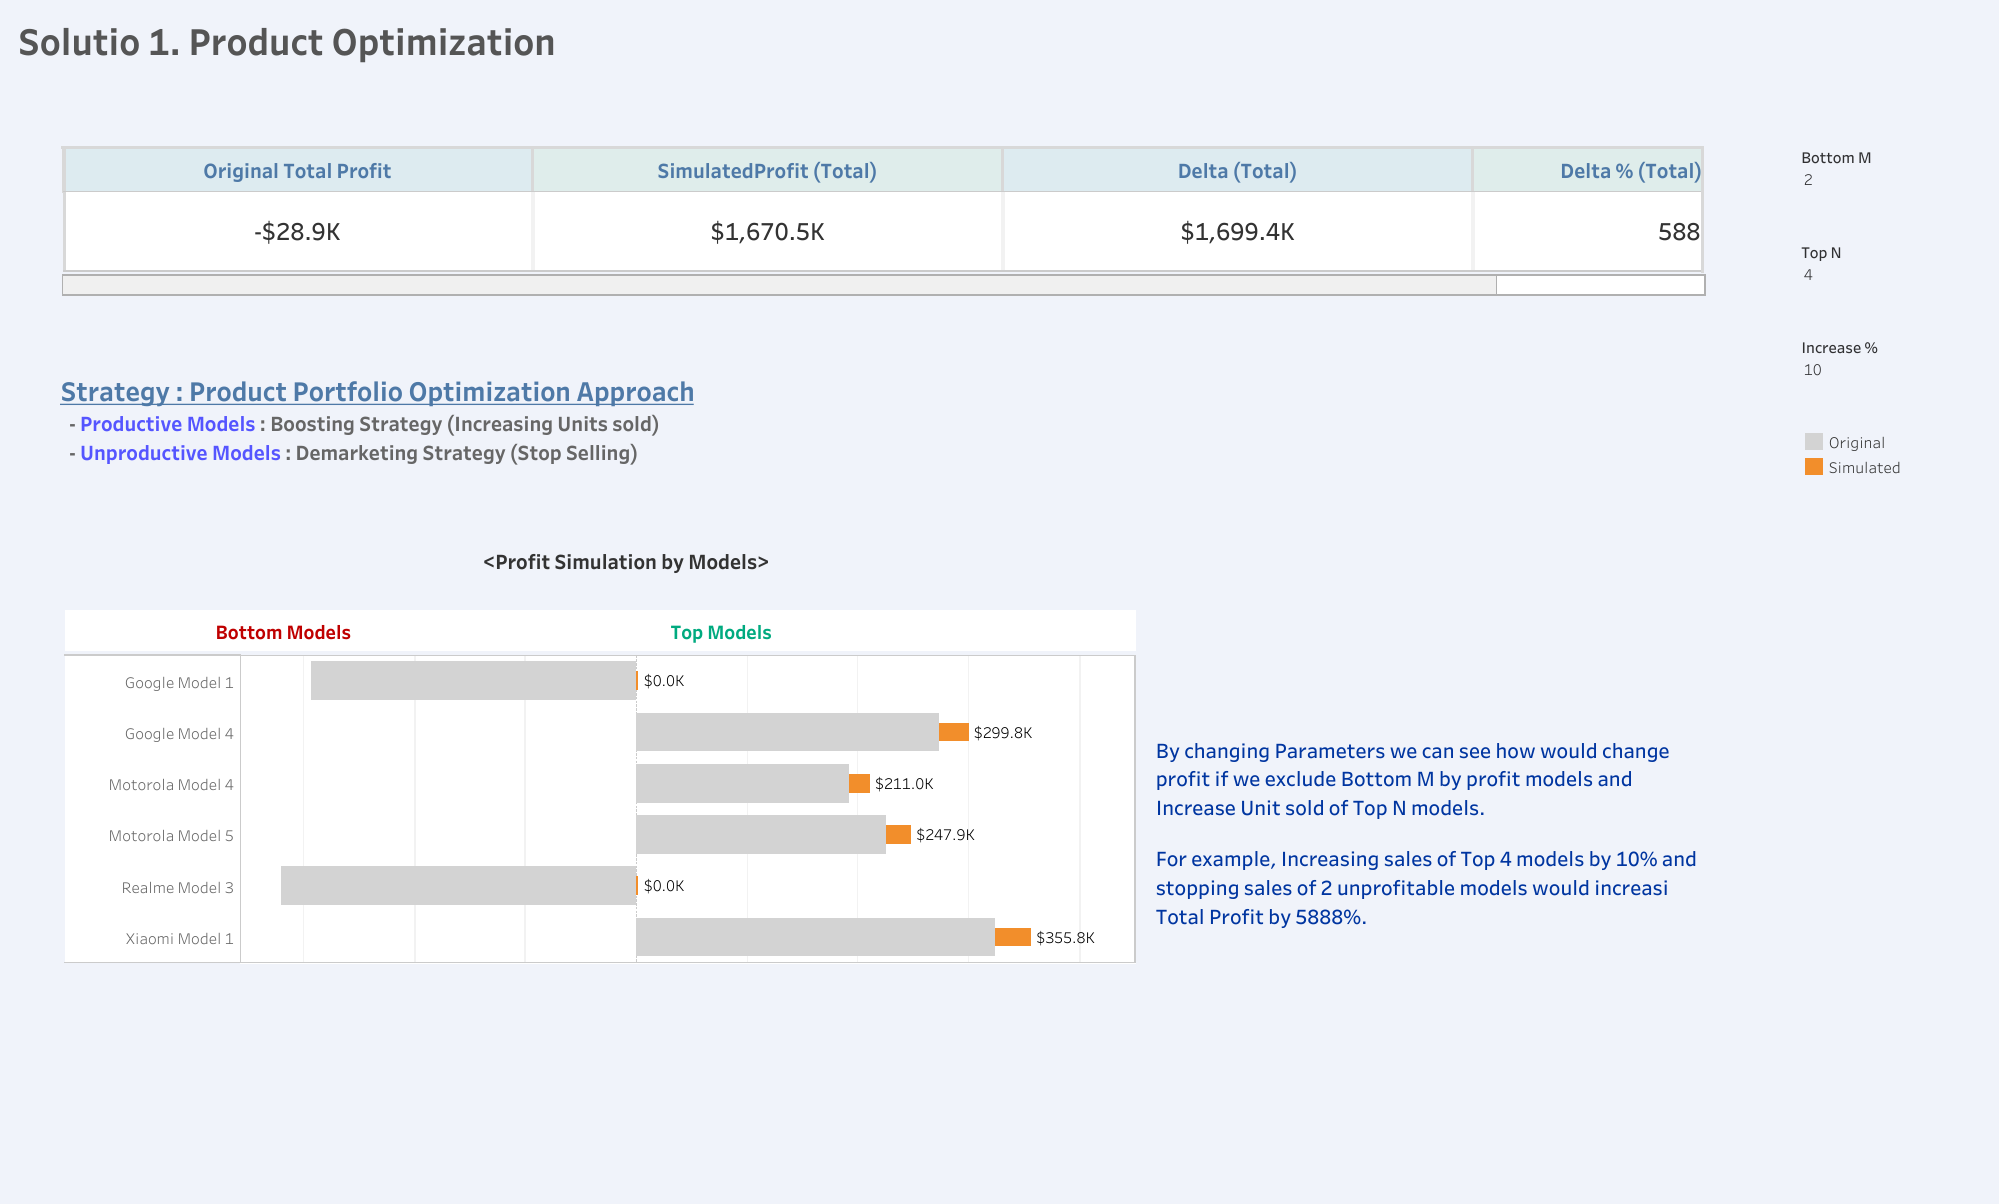

The page's visual inventory and layout, read from the dashboard file:
{"tool":"tableau","page":{"name":"3. Solution 1","canvas":[1000,1000],"units":"permille","ordinal":5},"visuals":[{"type":"title","box":[4.2,9.2,991.5,78.5]},{"type":"parameter","param":"[Parameters].[Top N (copy)_533395091927502848]","box":[898.4,115.5,89.2,95.9]},{"type":"worksheet","title":"KPI_simulation","mark":"Automatic","box":[30.8,121.2,821.5,157]},{"type":"parameter","param":"[Parameters].[Parameter 9]","box":[898.4,211.3,89.2,95.9]},{"type":"text","box":[28.7,278.3,480.3,138.6]},{"type":"parameter","param":"[Parameters].[Parameter 10]","box":[898.4,307.2,89.2,95.9]},{"type":"legend","title":"Before-After","param":"[federated.133nf490kqtoen14o6drk1ew0xuc].[:Measure Names]","box":[898.4,403,89.2,67]},{"type":"text","box":[189.7,430.7,246.6,69.3]},{"type":"text","box":[576,497.7,282.2,385.7]},{"type":"worksheet","title":"Before-After","mark":"Automatic","rows":["Model"],"cols":["Calculation_533395091928510465","Calculation_533395091930267657"],"box":[32.4,505.8,535.6,386.8]}]}

Visuals, with their boxes on the dashboard's canvas, which has no fixed pixel size, in thousandths of its width and height (x1, y1, x2, y2). These are canvas units, not pixel positions in the 1999x1204 screenshot, which may show the page scaled, cropped or inside an application window:
title: <region>4, 9, 996, 88</region>
parameter: <region>898, 116, 988, 211</region>
"KPI_simulation" worksheet: <region>31, 121, 852, 278</region>
parameter: <region>898, 211, 988, 307</region>
text: <region>29, 278, 509, 417</region>
parameter: <region>898, 307, 988, 403</region>
"Before-After" legend: <region>898, 403, 988, 470</region>
text: <region>190, 431, 436, 500</region>
text: <region>576, 498, 858, 883</region>
"Before-After" worksheet: <region>32, 506, 568, 893</region>
